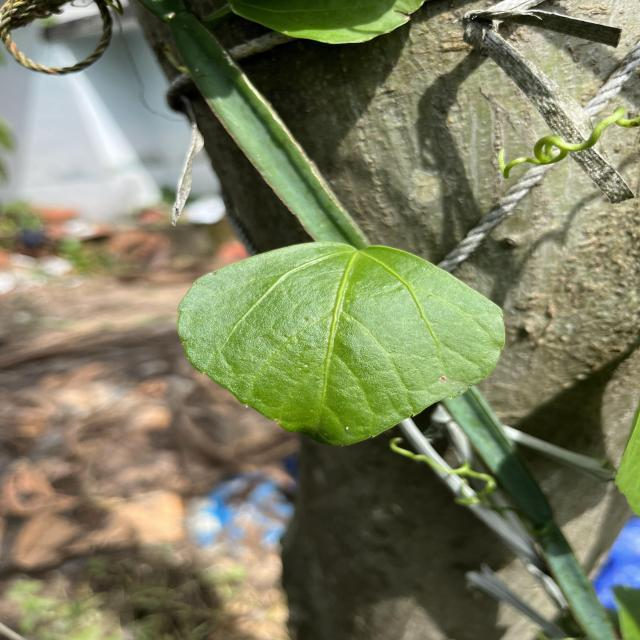Cissus quadrangularis: (173, 237, 510, 448)
